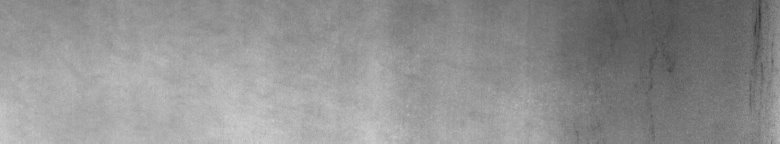ka: (744, 4, 776, 108)
